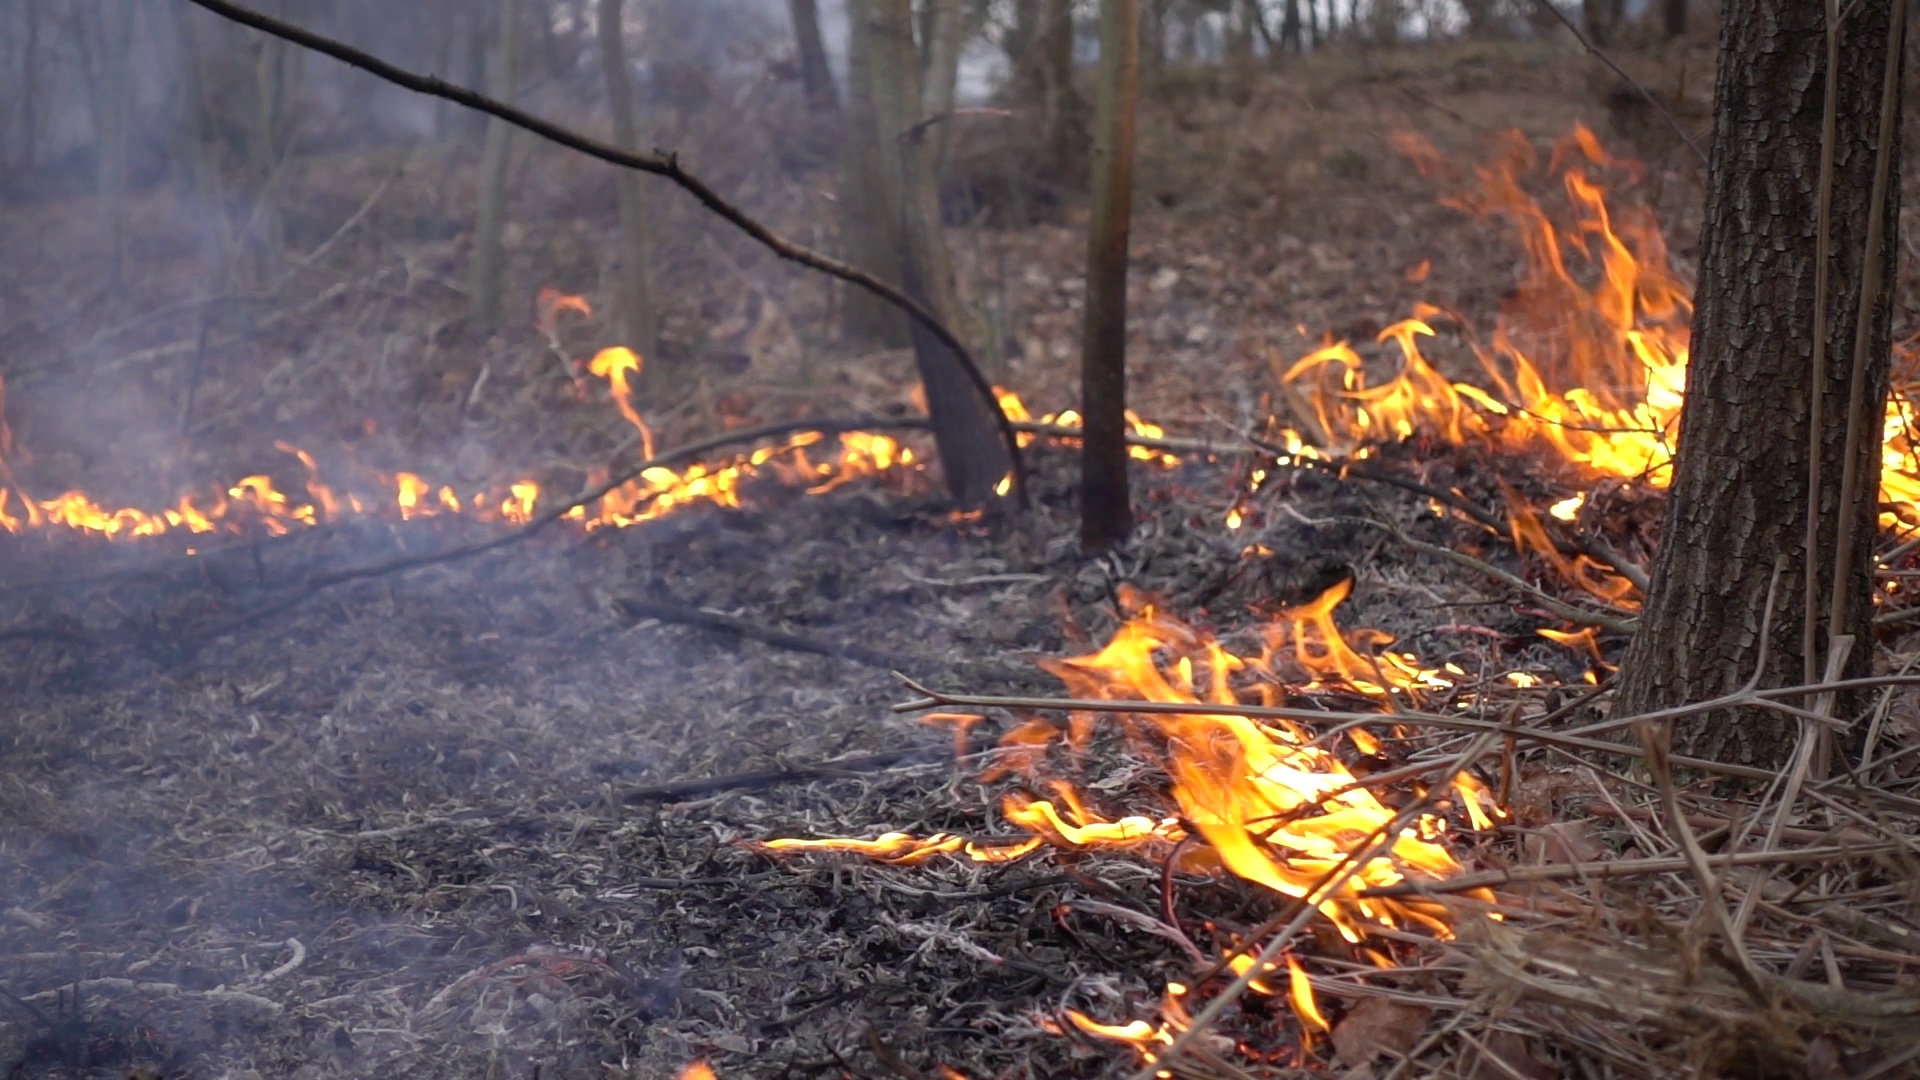fire: (1274, 144, 1677, 485), (1073, 597, 1468, 926), (597, 429, 895, 529), (1, 477, 306, 531), (392, 476, 538, 516), (1884, 398, 1920, 531)
